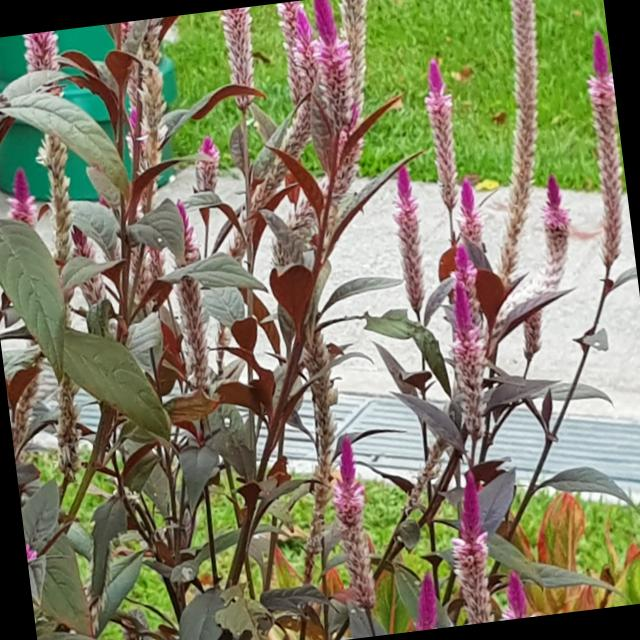Celosia-Argentea: (12, 37, 98, 479), (455, 0, 572, 291), (302, 438, 402, 636), (497, 169, 594, 369), (562, 31, 634, 265), (247, 0, 343, 164), (151, 188, 224, 398), (371, 148, 436, 334), (109, 18, 179, 182), (298, 0, 373, 146), (416, 35, 465, 228), (439, 470, 499, 625), (62, 218, 121, 368), (440, 274, 484, 438), (218, 6, 270, 132), (444, 160, 498, 270), (0, 151, 43, 271), (444, 236, 484, 350), (187, 124, 230, 215), (493, 559, 538, 620), (412, 562, 444, 630)
